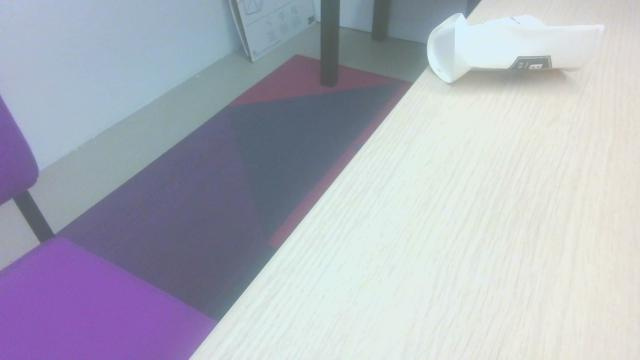cup: (421, 6, 613, 87)
